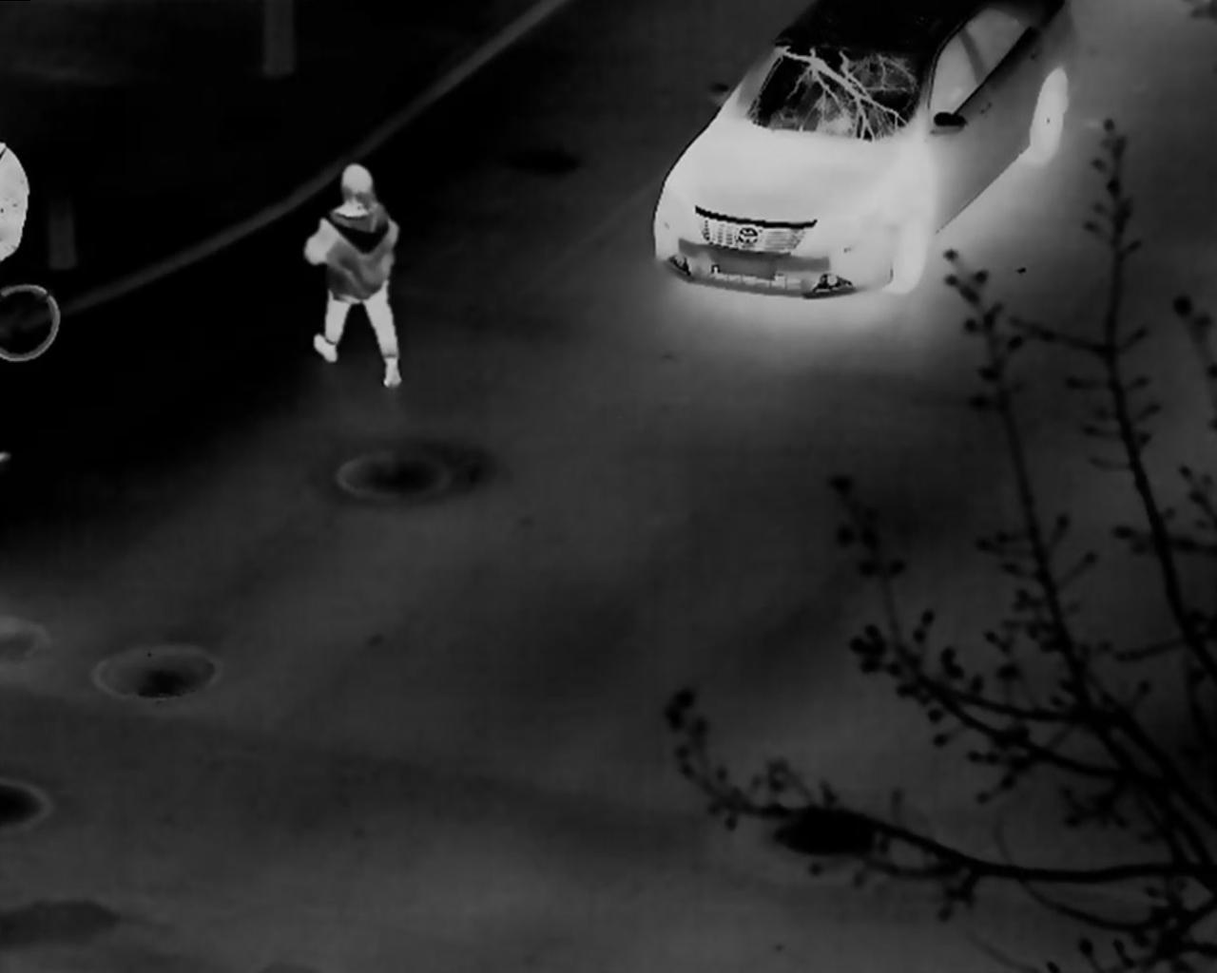person: (303, 161, 404, 386)
